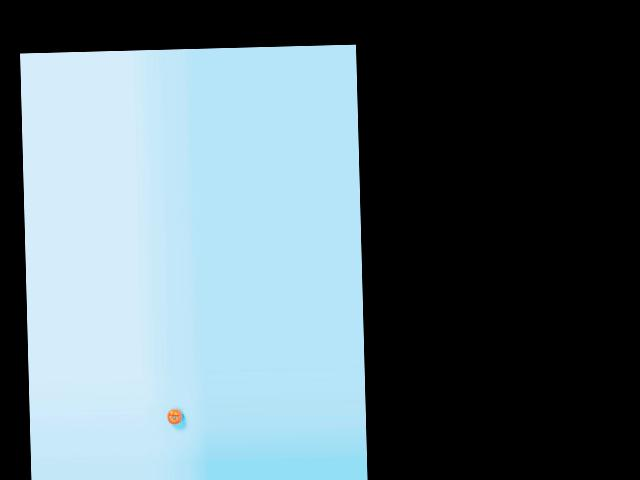tomato: (166, 409, 182, 425)
